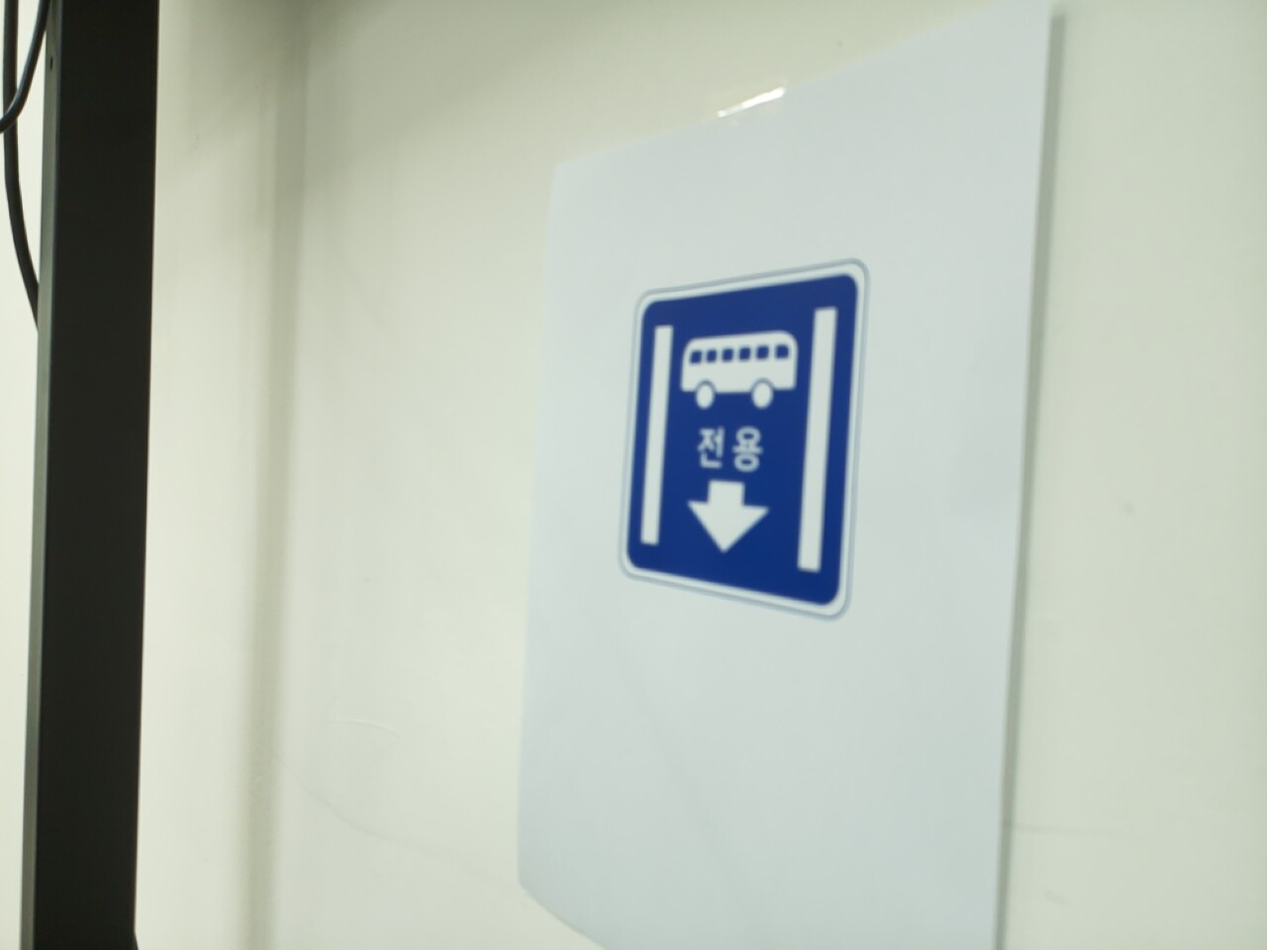bus_only_lane: (619, 264, 866, 616)
